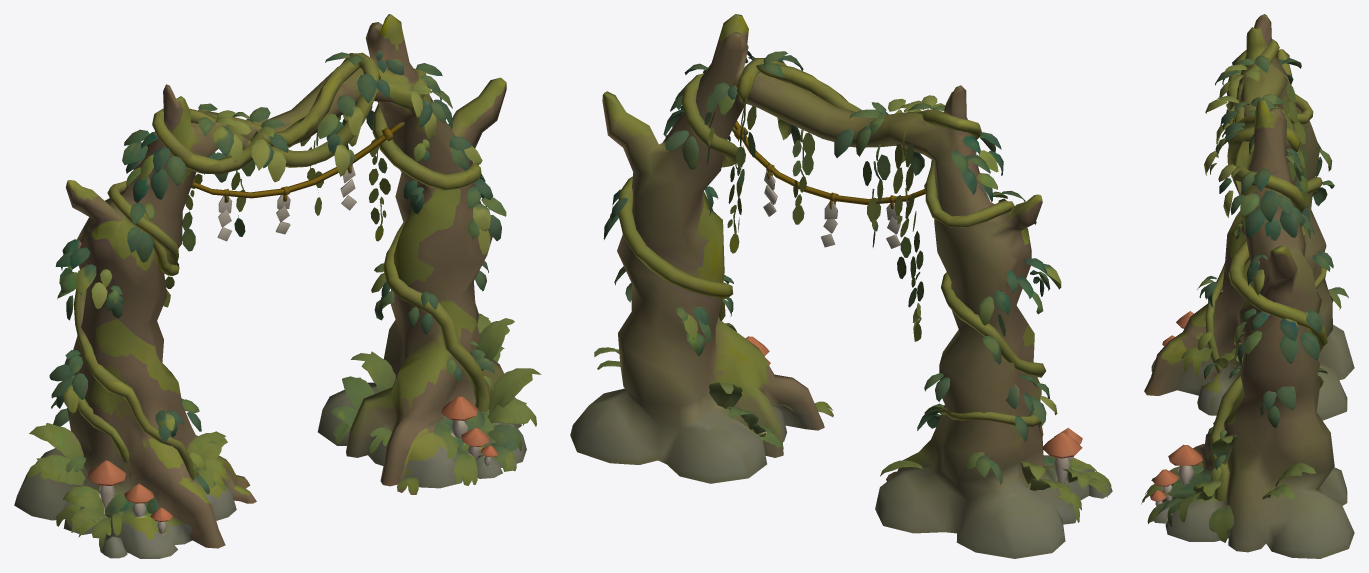
File: tripo_convert_52d77f7b-3642-473a-93db-77fec35710d1.fbx
3 renders of one model, left to right at view 1: azimuth 30°, elevation 25°; view 2: azimuth 150°, elevation 25°; view 3: azimuth 270°, elevation 25°, orthographic. The views are drawn at different scales.
Visible parts, largest first — view 1: tripo_node_52d77f7b; view 2: tripo_node_52d77f7b; view 3: tripo_node_52d77f7b.
Boxes of the visible parts, x1=… form: tripo_node_52d77f7b: x1=14, y1=14, x2=541, y2=558; tripo_node_52d77f7b: x1=570, y1=14, x2=1112, y2=558; tripo_node_52d77f7b: x1=1141, y1=14, x2=1354, y2=558.
Bounding box in the file's own units: 99.95 × 41.36 × 85.11.
Materials: 1 (1 with a texture image).
